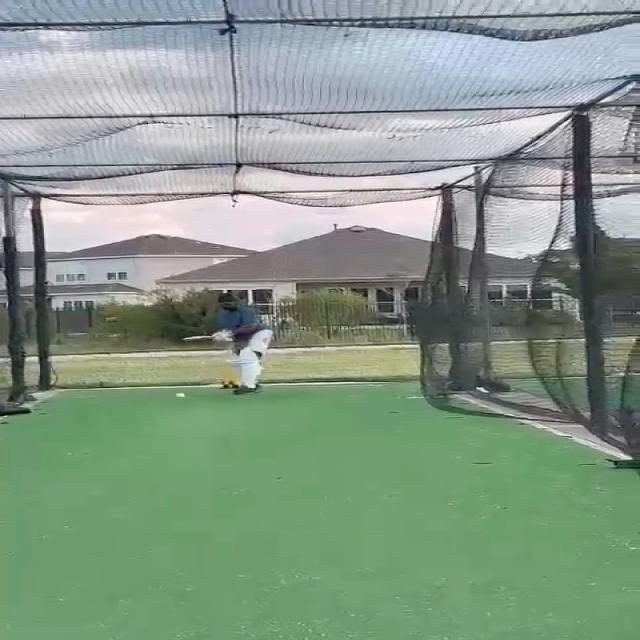batsman: (180, 292, 276, 396)
